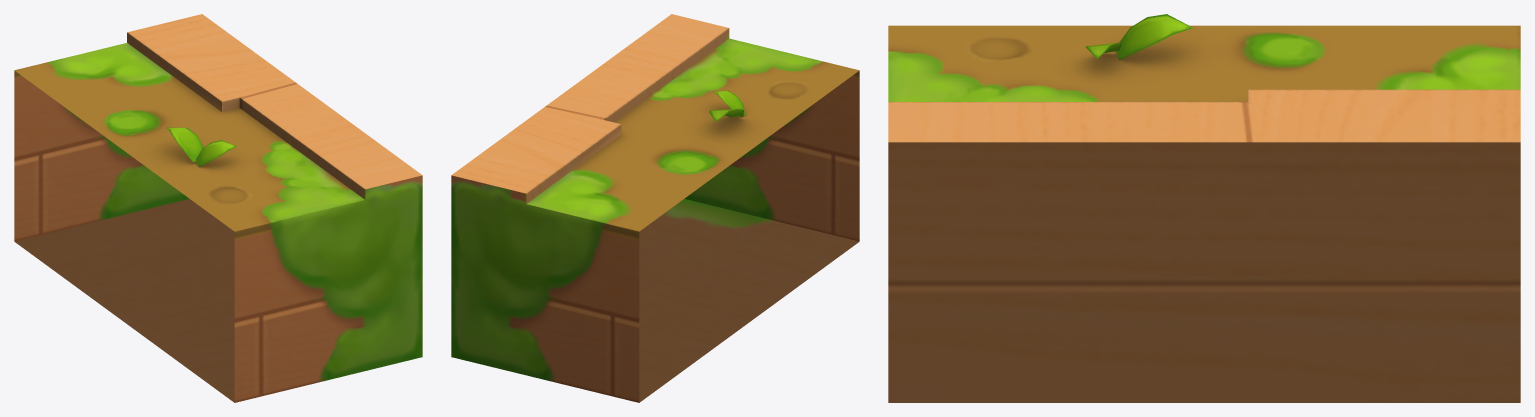
Rendered from nidi03.FBX.
3 renders of one model, left to right at view 1: azimuth 30°, elevation 25°; view 2: azimuth 150°, elevation 25°; view 3: azimuth 270°, elevation 25°, orthographic. The views are drawn at different scales.
Parts seen in each view (by area): view 1: objjiansulumian_01_03; view 2: objjiansulumian_01_03; view 3: objjiansulumian_01_03.
Boxes of the visible parts, x1=… form: objjiansulumian_01_03: x1=14, y1=14, x2=422, y2=402; objjiansulumian_01_03: x1=451, y1=14, x2=859, y2=402; objjiansulumian_01_03: x1=888, y1=14, x2=1520, y2=402.
Size of the model in its own units: 3.45 by 3.41 by 7.
